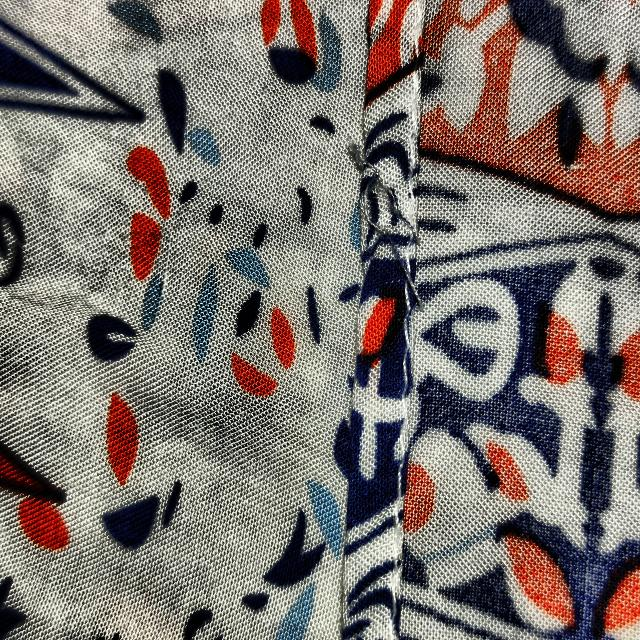Stitch: (334, 114, 452, 358)
